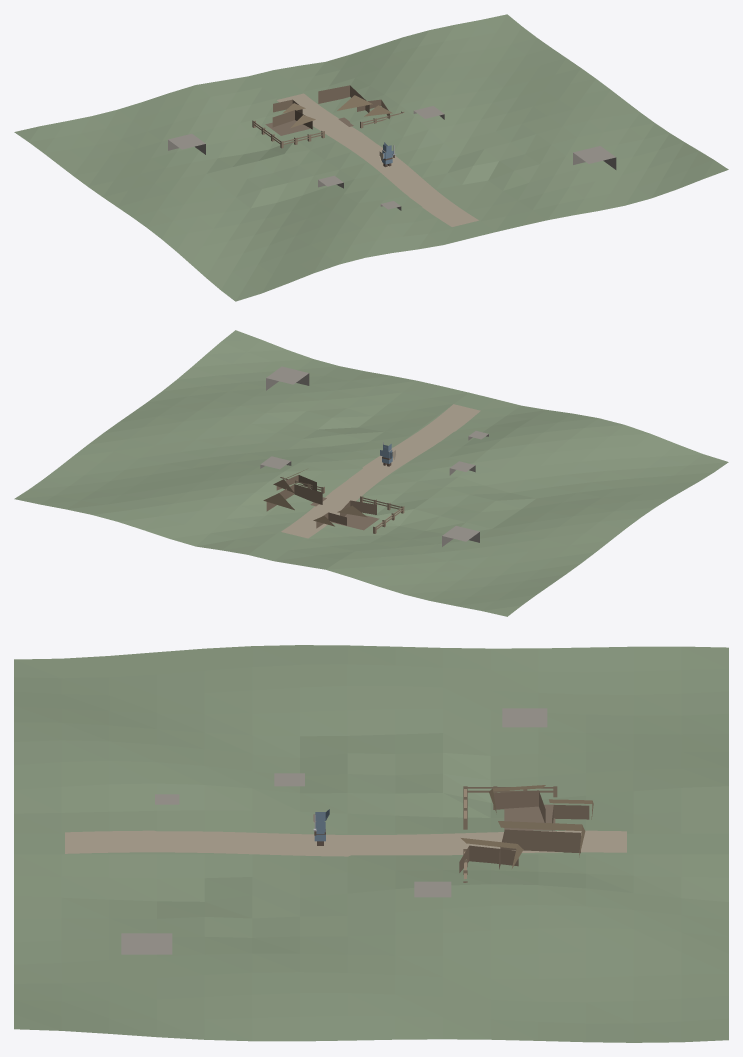
The model's file is poc-overworld-environment.gltf.
3 renders of one model, top to bottom at view 1: azimuth 30°, elevation 25°; view 2: azimuth 150°, elevation 25°; view 3: azimuth 270°, elevation 25°, orthographic. The views are drawn at different scales.
Parts seen in each view (by area): view 1: poc-overworld-terrain, poc-settlement-landmark; view 2: poc-overworld-terrain, poc-settlement-landmark; view 3: poc-overworld-terrain, poc-settlement-landmark.
Boxes of the visible parts, left/top/right/bottom form: poc-overworld-terrain: left=14, top=14, right=728, bottom=301; poc-settlement-landmark: left=252, top=85, right=404, bottom=148; poc-overworld-terrain: left=14, top=330, right=728, bottom=616; poc-settlement-landmark: left=263, top=469, right=404, bottom=533; poc-overworld-terrain: left=14, top=645, right=728, bottom=1042; poc-settlement-landmark: left=459, top=785, right=593, bottom=882.
Bounding box in the file's own units: 9 × 0.5489 × 7.
